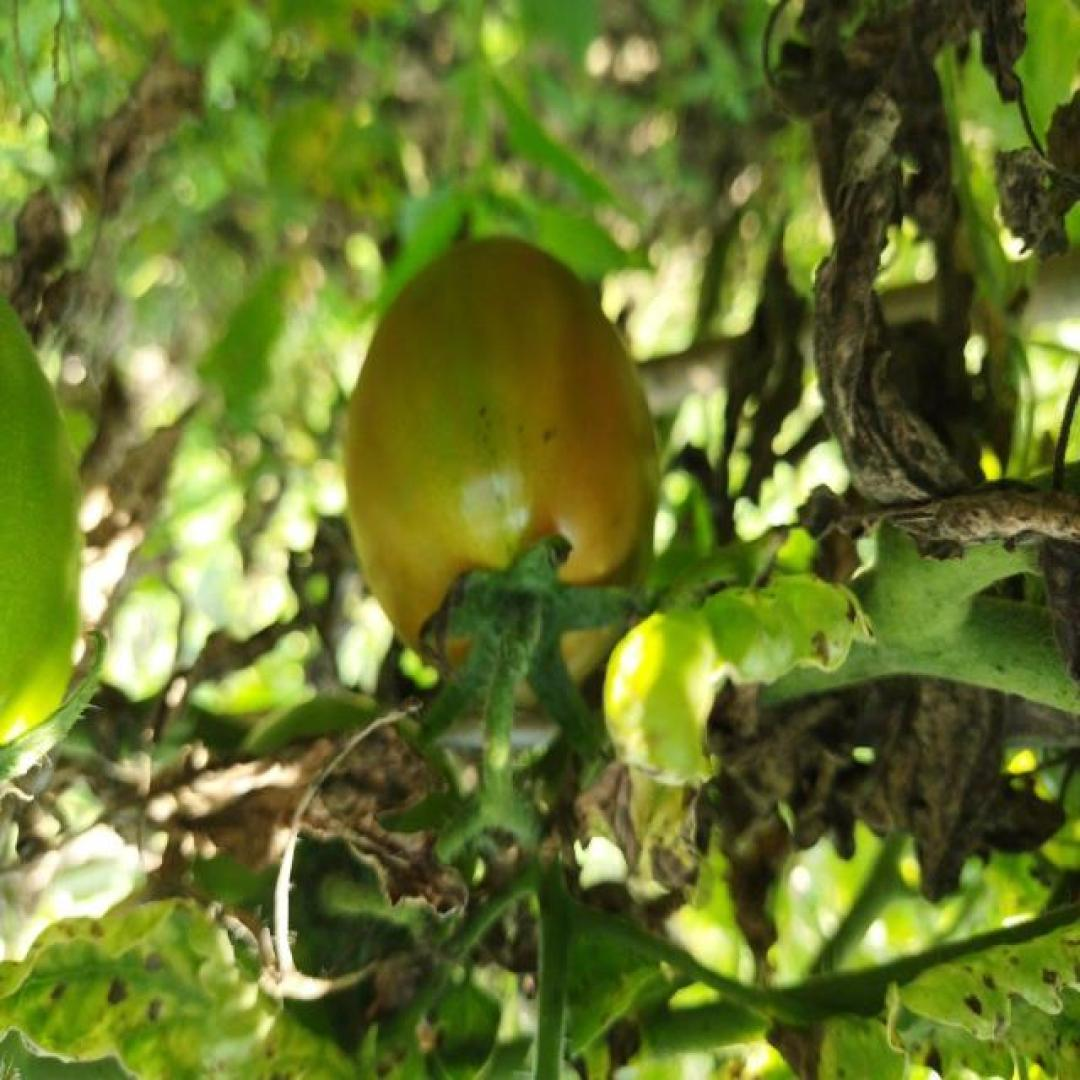setengah_matang: (341, 233, 661, 714)
